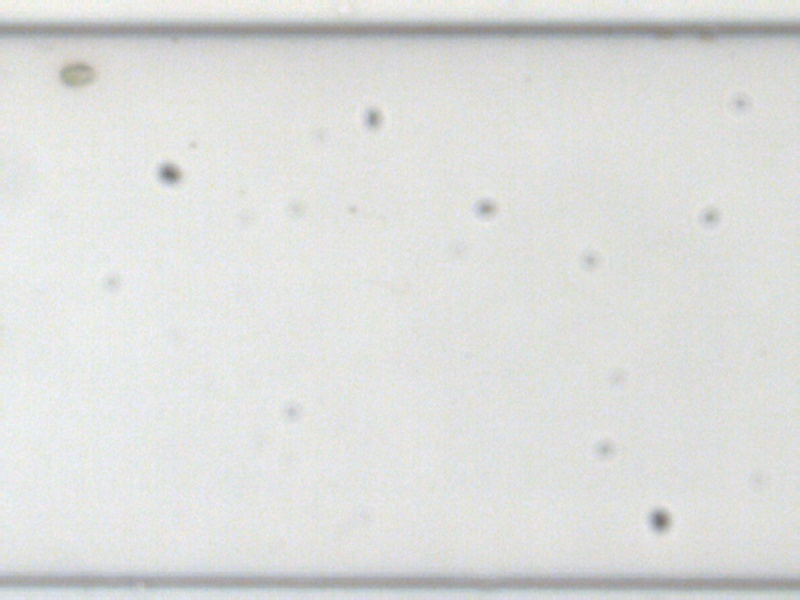Dunaliella salina: (56, 61, 97, 87)
